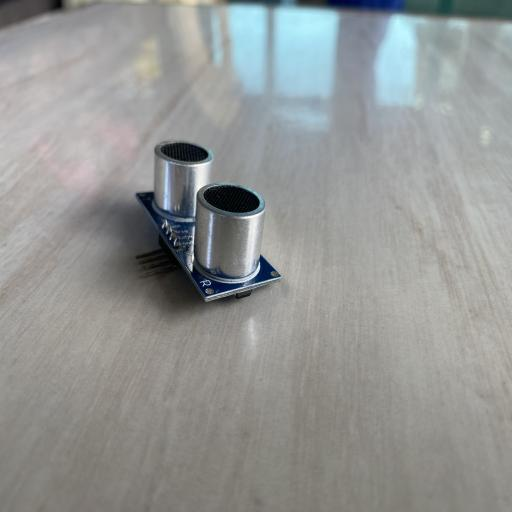Ultrasonic Sensor: (134, 140, 281, 303)
